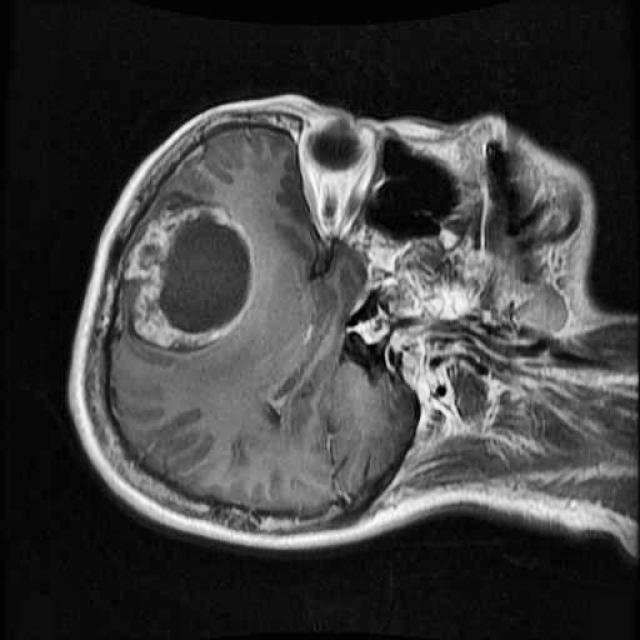Non-Tumor: (110, 182, 280, 375)
